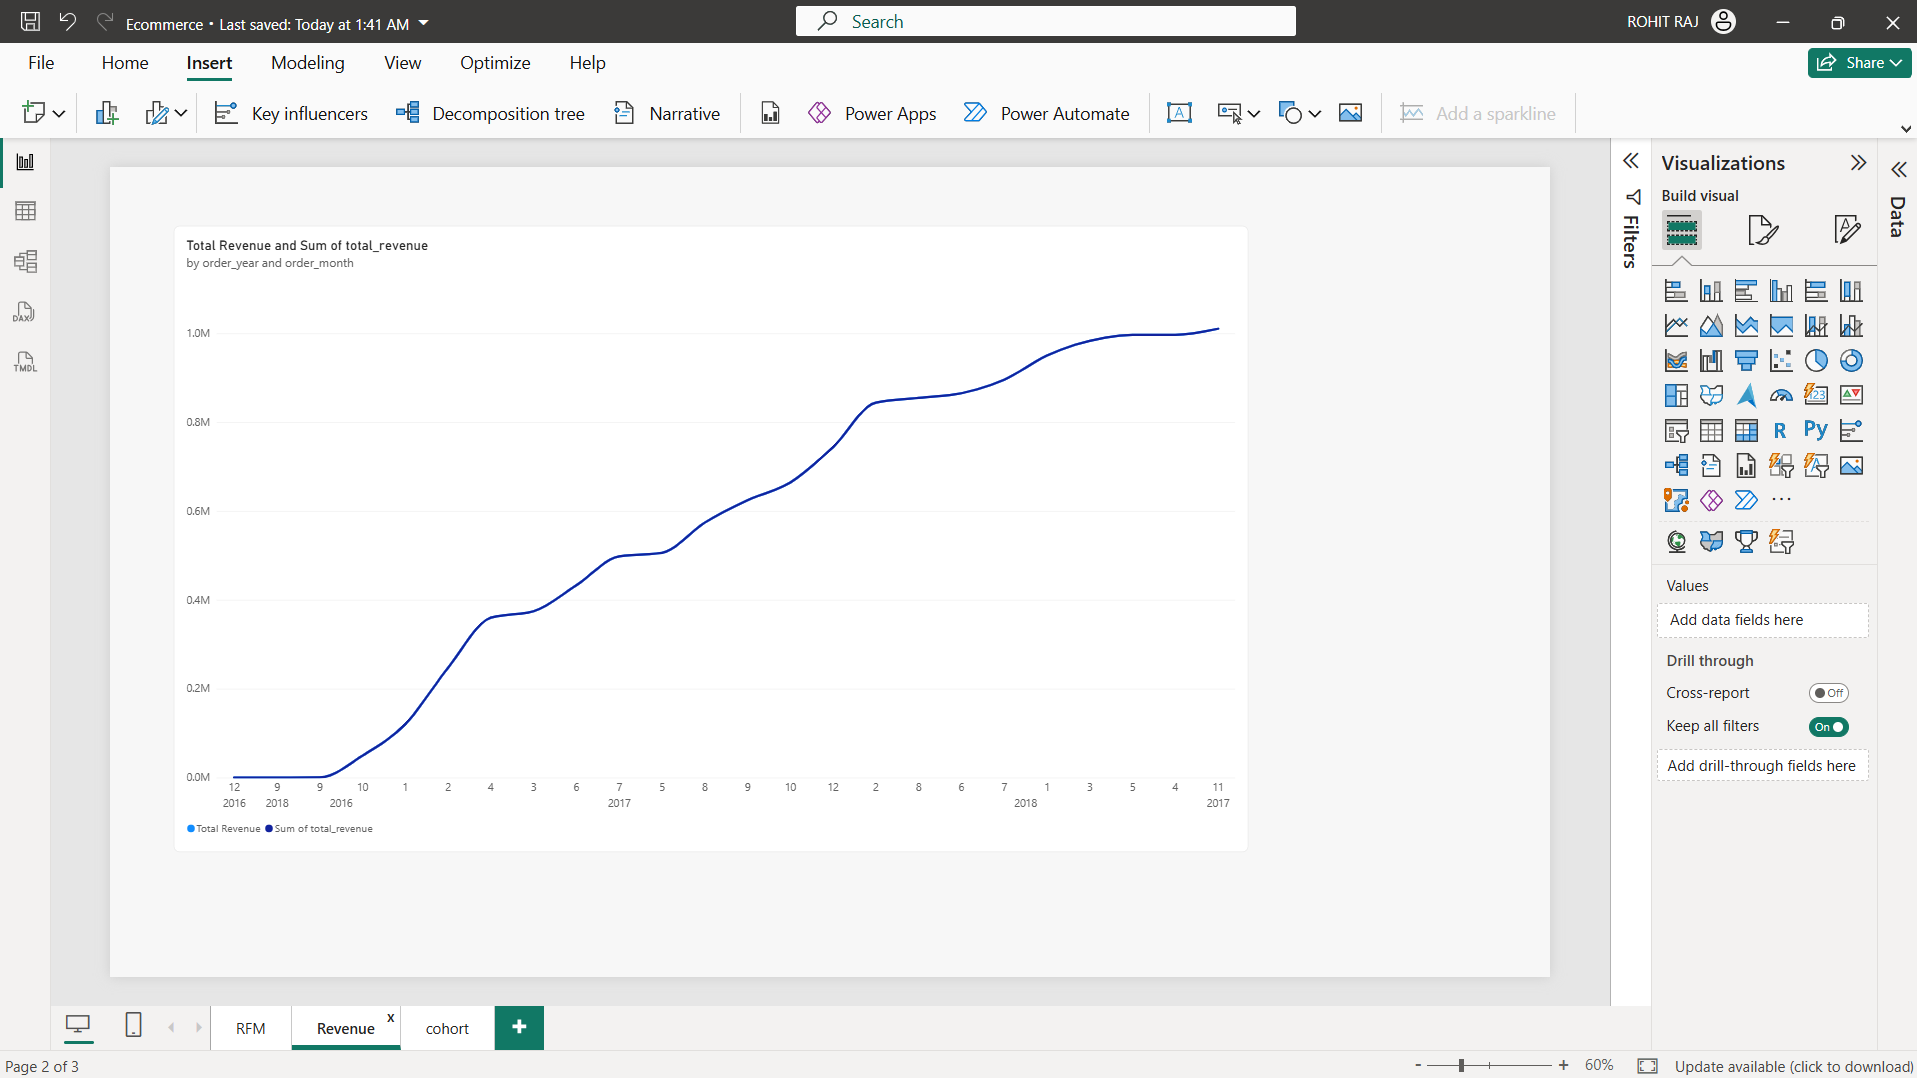

Layout of this report page (visuals, bound fields, positions):
{"tool":"powerbi","page":{"name":"Revenue","canvas":[1920,1080],"ordinal":1},"visuals":[{"type":"lineChart","fields":{"Category":["vw_sales_summary.order_year","vw_sales_summary.order_month"],"Y":["vw_sales_summary.Total Revenue","Sum(vw_sales_summary.total_revenue)"]},"box":[85,77.5,1432.5,835],"z":0}]}

Visuals, with their boxes on the page's 1920x1080 design canvas (x1, y1, x2, y2). These are canvas units, not pixel positions in the 1917x1078 screenshot, which may show the page scaled, cropped or inside an application window:
lineChart - vw_sales_summary.order_year x vw_sales_summary.order_month: (85,78,1518,912)
